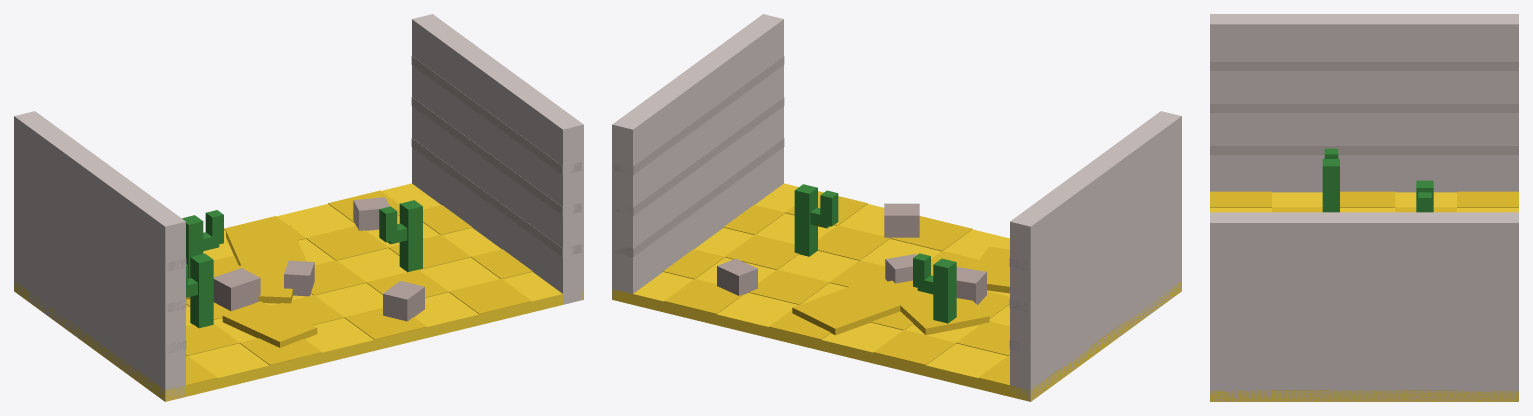
Rendered from ZoneDesert.glb.
3 renders of one model, left to right at view 1: azimuth 30°, elevation 25°; view 2: azimuth 150°, elevation 25°; view 3: azimuth 270°, elevation 25°, orthographic. The views are drawn at different scales.
Visible parts, largest first — view 1: ZoneDesert__wall, ZoneDesert__floor_alt, ZoneDesert__floor, ZoneDesert__cactus, ZoneDesert__wall_alt, ZoneDesert__sand_rock; view 2: ZoneDesert__wall, ZoneDesert__floor_alt, ZoneDesert__floor, ZoneDesert__wall_alt, ZoneDesert__cactus, ZoneDesert__sand_rock; view 3: ZoneDesert__wall, ZoneDesert__wall_alt, ZoneDesert__floor, ZoneDesert__floor_alt, ZoneDesert__cactus.
Part boxes in pixels (box(x1,y1,x2,y2)): ZoneDesert__wall: box(14, 14, 583, 401); ZoneDesert__floor_alt: box(18, 190, 532, 390); ZoneDesert__floor: box(14, 183, 583, 401); ZoneDesert__cactus: box(182, 200, 422, 328); ZoneDesert__wall_alt: box(167, 56, 581, 352); ZoneDesert__sand_rock: box(213, 197, 424, 321); ZoneDesert__wall: box(612, 14, 1181, 401); ZoneDesert__floor_alt: box(663, 191, 1121, 390); ZoneDesert__floor: box(612, 183, 1181, 401); ZoneDesert__wall_alt: box(614, 56, 1028, 351); ZoneDesert__cactus: box(794, 184, 956, 323); ZoneDesert__sand_rock: box(717, 203, 986, 304); ZoneDesert__wall: box(1210, 14, 1518, 401); ZoneDesert__wall_alt: box(1210, 62, 1518, 154); ZoneDesert__floor: box(1210, 192, 1518, 401); ZoneDesert__floor_alt: box(1210, 191, 1518, 390); ZoneDesert__cactus: box(1322, 148, 1433, 212).
Size of the model in its own units: 40 by 16 by 25.
